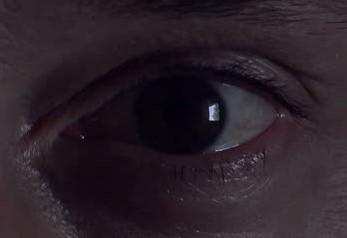open: (0, 14, 347, 238)
